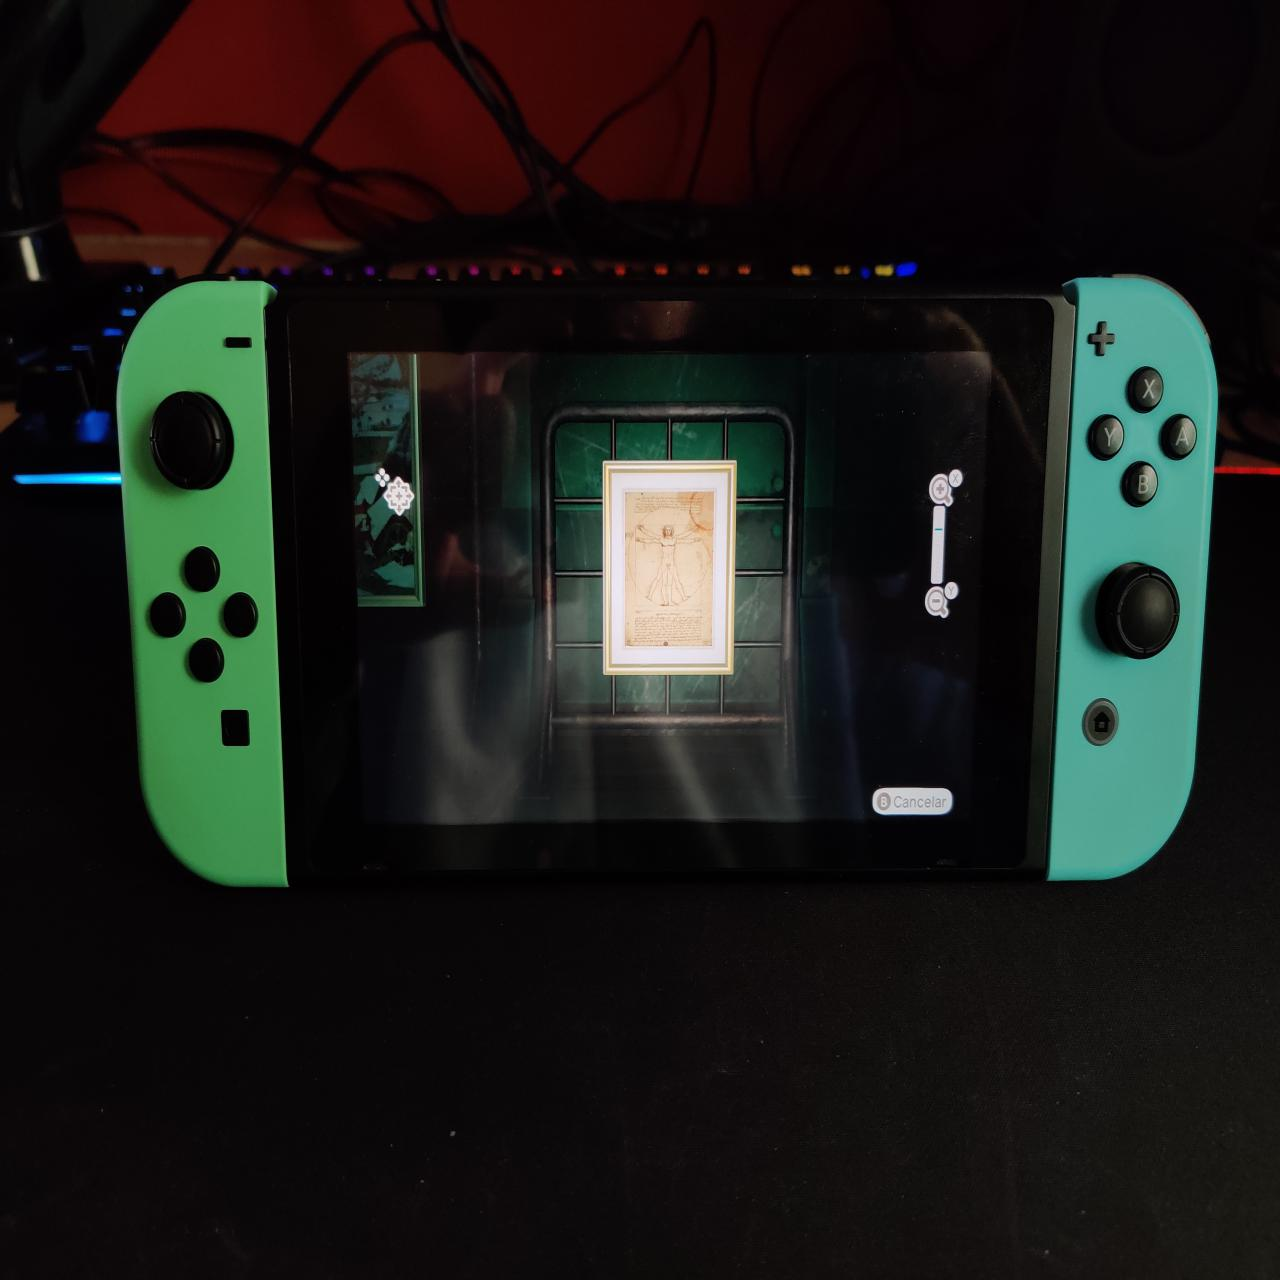VitruvianManFake: (623, 493, 716, 652)
